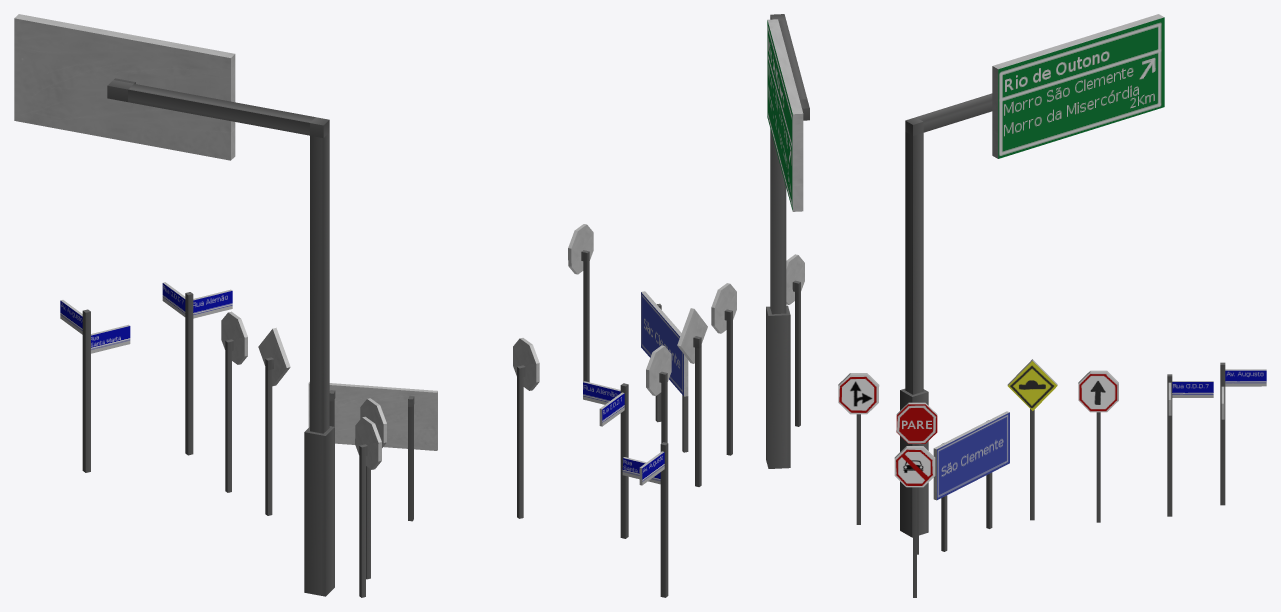
Rendered from placas_mod.fbx.
The picture shows the model from 3 angles, left to right: view 1: azimuth 30°, elevation 25°; view 2: azimuth 150°, elevation 25°; view 3: azimuth 270°, elevation 25°; orthographic projection. The views are drawn at different scales.
Parts seen in each view (by area): view 1: p-rio de outono, p-santa marta.001, p-santa marta, Rua alemão, quebra mola, siga em frente, p-frente ou direita, proibido tráfego de carros, p-pare; view 2: p-rio de outono, p-santa marta.001, Rua alemão, p-santa marta, quebra mola, p-pare, proibido tráfego de carros, p-frente ou direita, siga em frente; view 3: p-rio de outono, p-santa marta.001, siga em frente, p-frente ou direita, quebra mola, proibido tráfego de carros, p-pare, p-santa marta, Rua alemão.
Part boxes in pixels (left/top/right/bottom): p-rio de outono: left=14, top=14, right=334, bottom=596; p-santa marta.001: left=308, top=381, right=437, bottom=521; p-santa marta: left=60, top=300, right=130, bottom=472; Rua alemão: left=162, top=282, right=232, bottom=455; quebra mola: left=258, top=327, right=290, bottom=515; siga em frente: left=221, top=311, right=247, bottom=492; p-frente ou direita: left=355, top=416, right=381, bottom=597; proibido tráfego de carros: left=513, top=338, right=539, bottom=518; p-pare: left=360, top=398, right=386, bottom=579; p-rio de outono: left=766, top=14, right=809, bottom=468; p-santa marta.001: left=641, top=291, right=688, bottom=452; Rua alemão: left=583, top=381, right=628, bottom=538; p-santa marta: left=622, top=442, right=668, bottom=597; quebra mola: left=677, top=308, right=707, bottom=486; p-pare: left=711, top=283, right=736, bottom=455; proibido tráfego de carros: left=568, top=224, right=593, bottom=382; p-frente ou direita: left=786, top=254, right=804, bottom=426; siga em frente: left=646, top=345, right=671, bottom=443; p-rio de outono: left=900, top=14, right=1164, bottom=537; p-santa marta.001: left=933, top=411, right=1009, bottom=551; siga em frente: left=1078, top=370, right=1118, bottom=522; p-frente ou direita: left=838, top=373, right=879, bottom=524; quebra mola: left=1007, top=359, right=1057, bottom=520; proibido tráfego de carros: left=894, top=446, right=935, bottom=597; p-pare: left=896, top=402, right=937, bottom=554; p-santa marta: left=1220, top=362, right=1266, bottom=505; Rua alemão: left=1167, top=374, right=1213, bottom=516.
Size of the model in its own units: 371 by 484 by 419.
